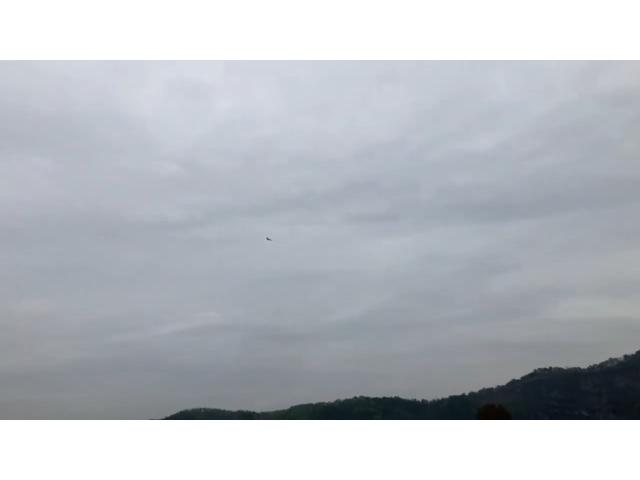Anti-Drone: (257, 232, 283, 248)
